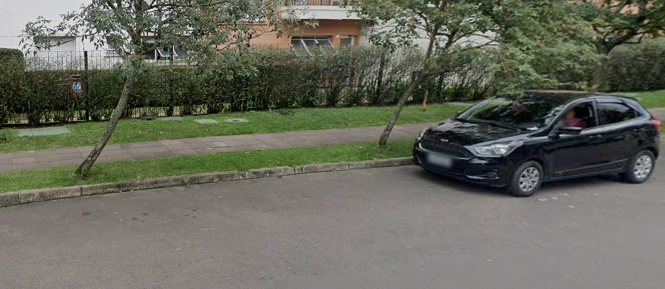vag19: (1, 97, 398, 257)
